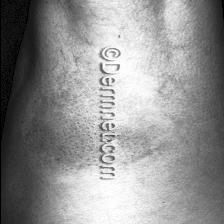Toxin: (26, 68, 148, 172)
